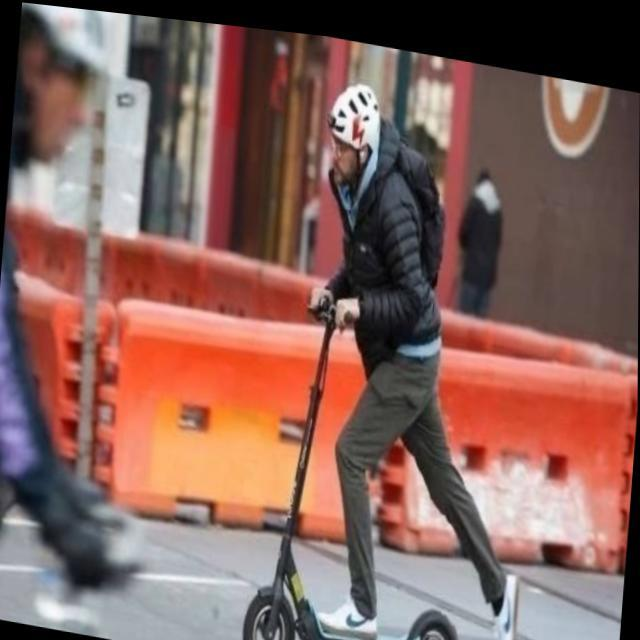Helmet: (320, 76, 385, 198)
